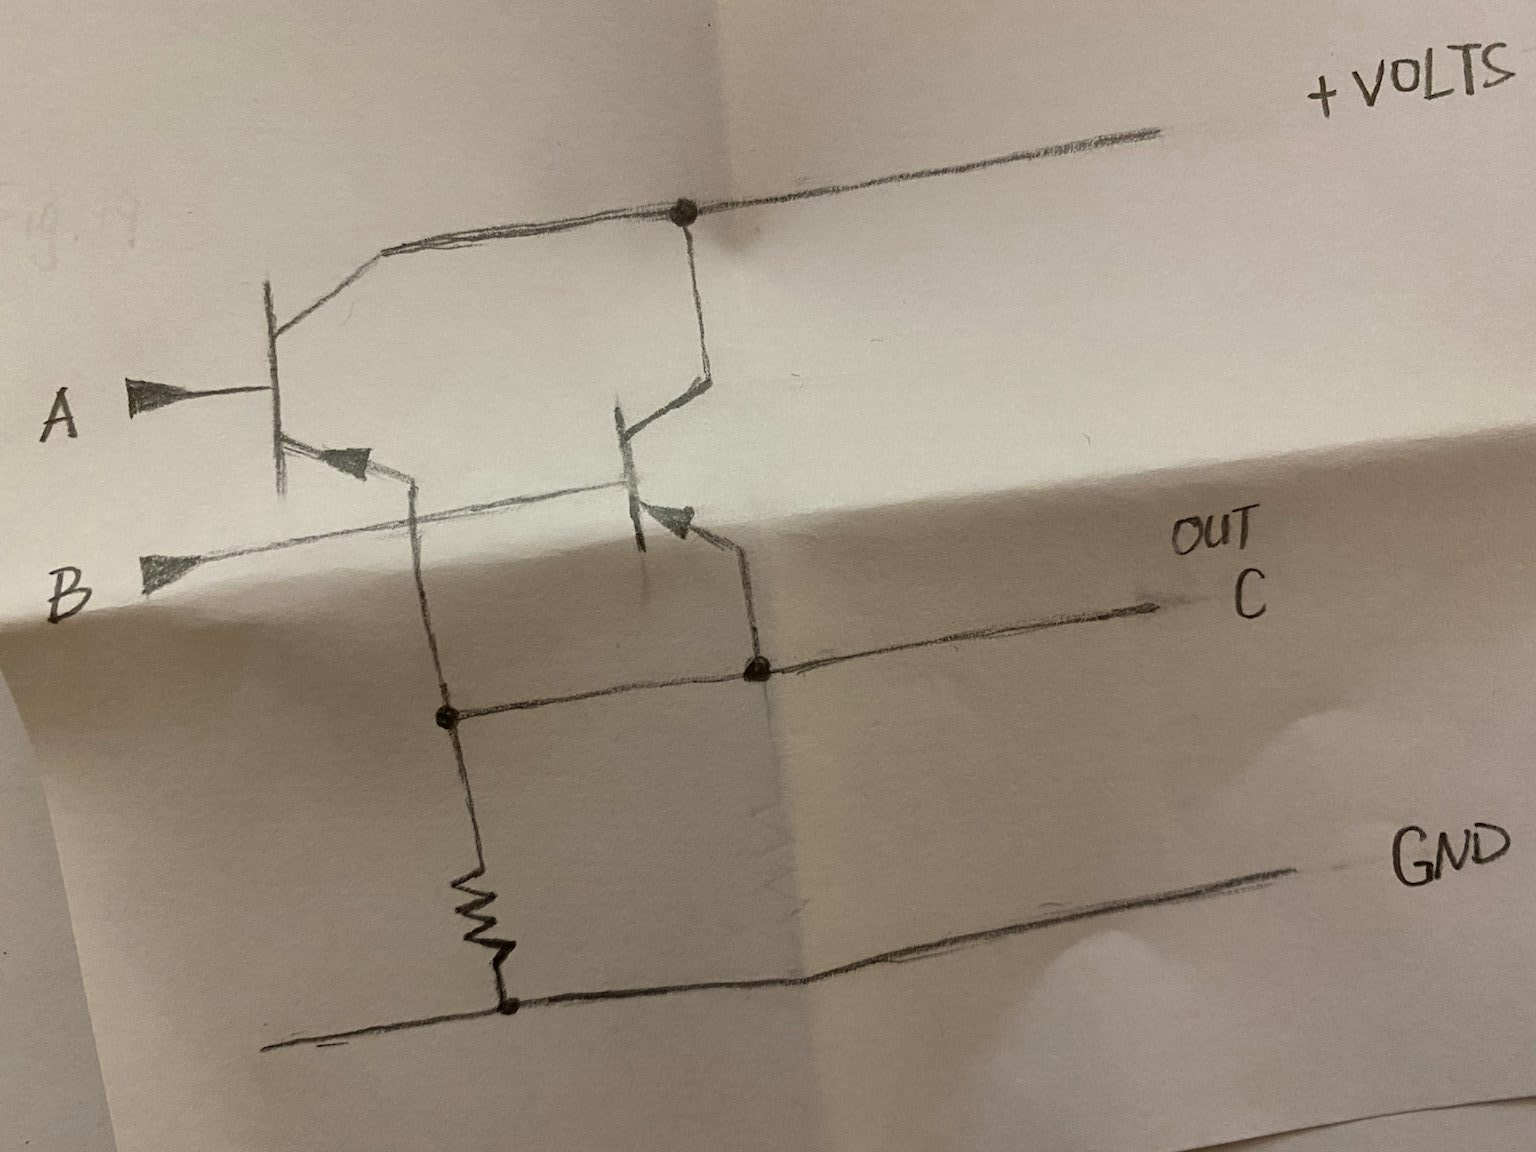crossover: (392, 499, 435, 542)
junction: (654, 179, 714, 244), (420, 682, 478, 749), (734, 634, 787, 697), (478, 990, 538, 1029)
resistor: (445, 857, 529, 974)
terminal: (241, 1010, 339, 1071), (117, 365, 206, 424), (131, 546, 216, 598), (1102, 106, 1178, 161), (1245, 852, 1322, 900), (1099, 589, 1172, 626)
text: (1351, 40, 1523, 116), (1381, 816, 1515, 892), (1167, 496, 1261, 558), (45, 559, 98, 627), (37, 379, 83, 450), (1226, 561, 1274, 626), (1304, 71, 1342, 122)
transistor: (232, 230, 425, 486), (597, 363, 760, 574)
